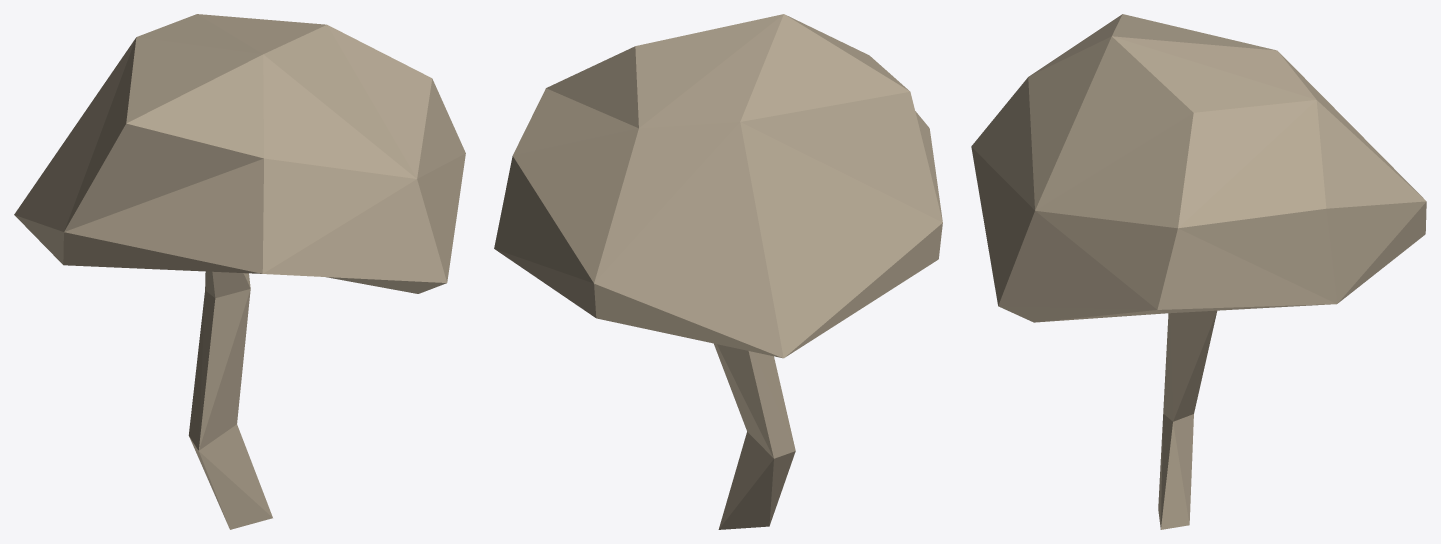
Rendered from SM_Mushroom_Brown_04.fbx.
3 renders of one model, left to right at view 1: azimuth 30°, elevation 25°; view 2: azimuth 150°, elevation 25°; view 3: azimuth 270°, elevation 25°, orthographic. The views are drawn at different scales.
Parts seen in each view (by area): view 1: SM_Mushroom_Brown_04; view 2: SM_Mushroom_Brown_04; view 3: SM_Mushroom_Brown_04.
Boxes of the visible parts, bbox=[...] form: SM_Mushroom_Brown_04: bbox=[14, 14, 465, 529]; SM_Mushroom_Brown_04: bbox=[494, 14, 942, 529]; SM_Mushroom_Brown_04: bbox=[971, 14, 1426, 529].
Size of the model in its own units: 25.95 by 30.06 by 26.01.
